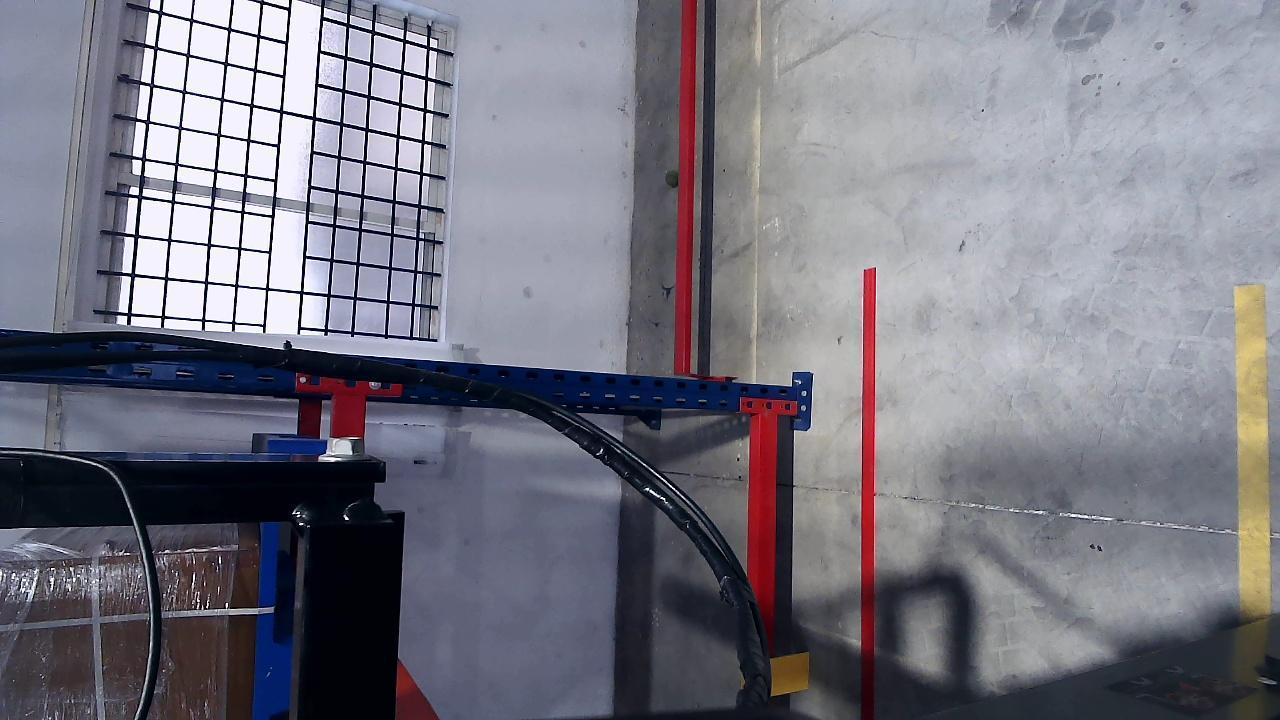red_line: (859, 266, 880, 719)
yellow_line: (1235, 282, 1271, 608)
